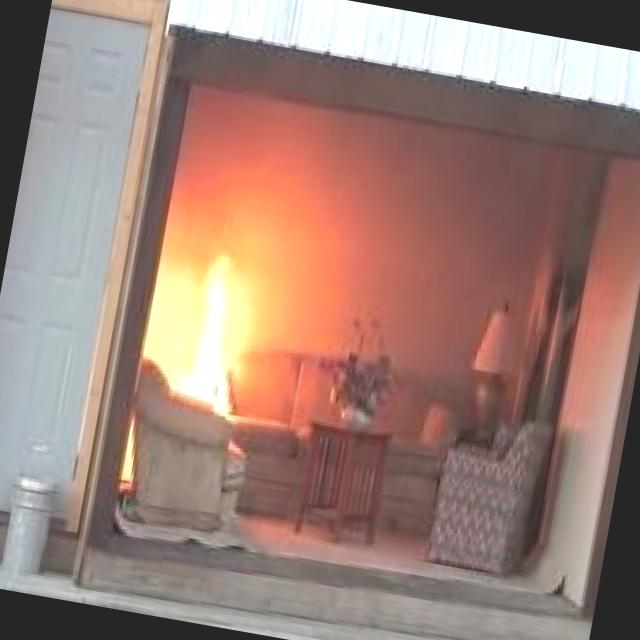fire: (142, 230, 272, 405)
